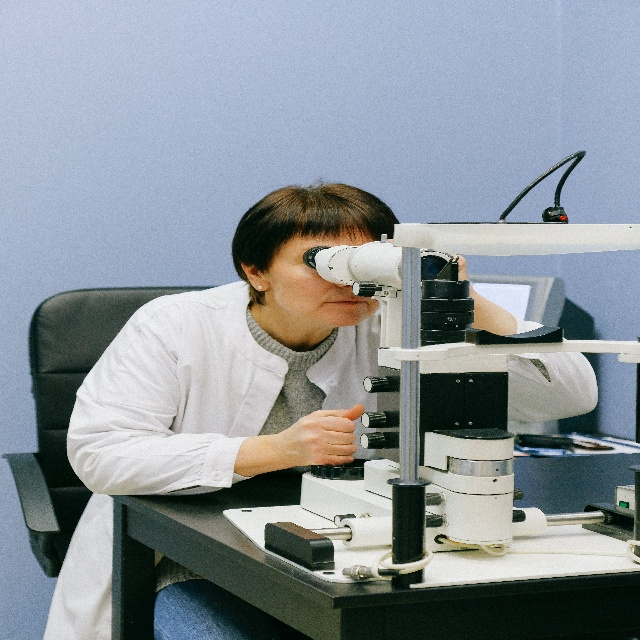Sin_guantes: (287, 402, 364, 469)
